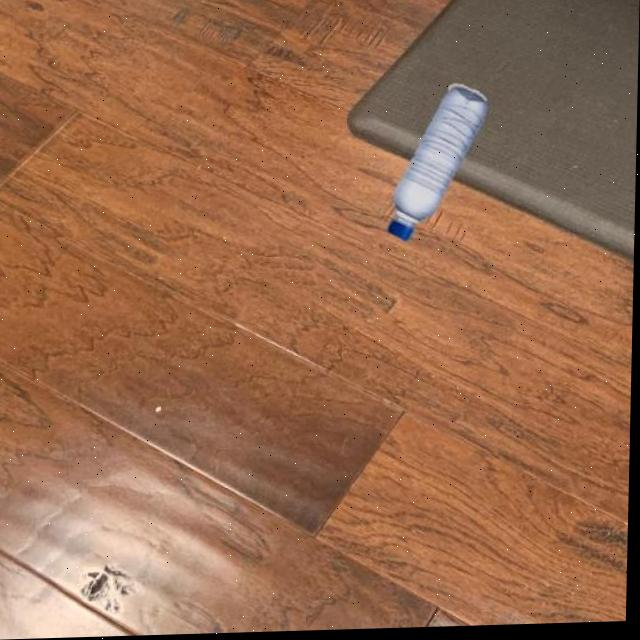bottle: (387, 84, 489, 244)
